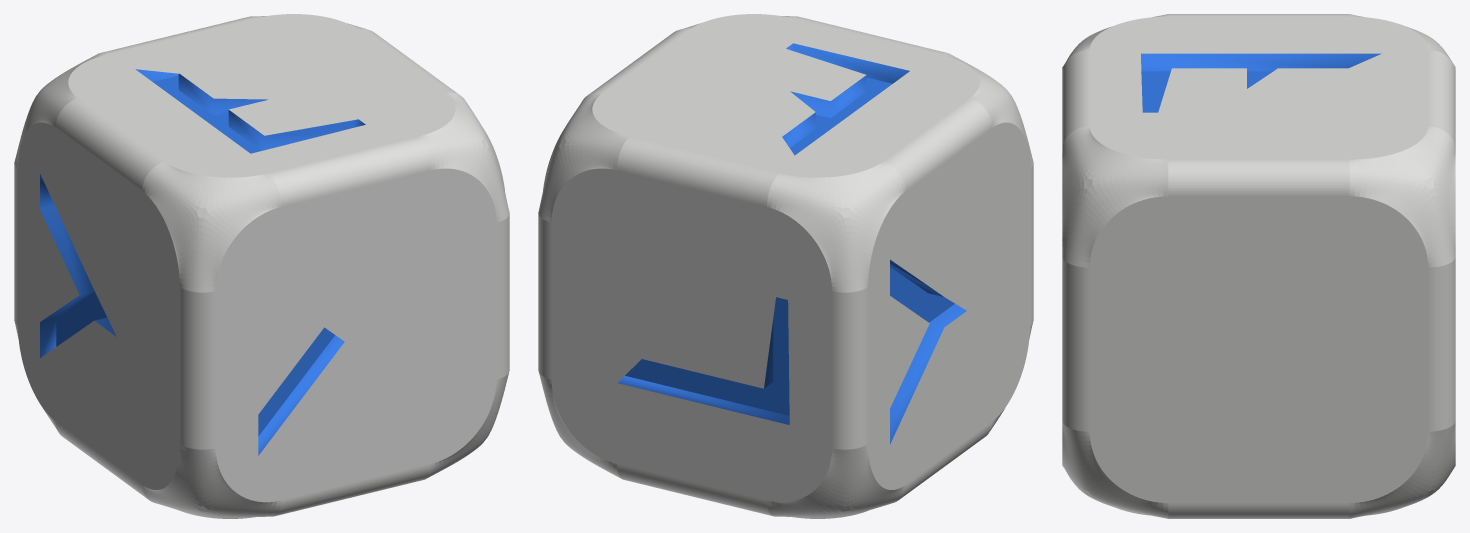
Rendered from BoggleDice.fbx_Die7.fbx.
3 views of the same model, side by side, from view 1: azimuth 30°, elevation 25°; view 2: azimuth 150°, elevation 25°; view 3: azimuth 270°, elevation 25° (orthographic). The views are drawn at different scales.
Parts seen in each view (by area): view 1: Die7; view 2: Die7; view 3: Die7.
Boxes of the visible parts, box(x1,y1,x2,y2) form: Die7: box(14, 14, 509, 518); Die7: box(538, 14, 1033, 518); Die7: box(1062, 14, 1455, 518).
Size of the model in its own units: 200 by 200 by 200.
